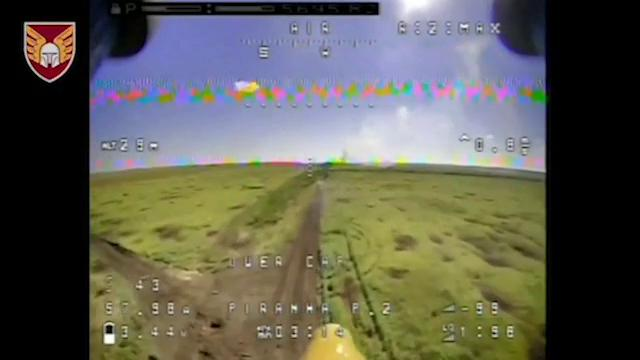tank: (312, 178, 326, 199)
